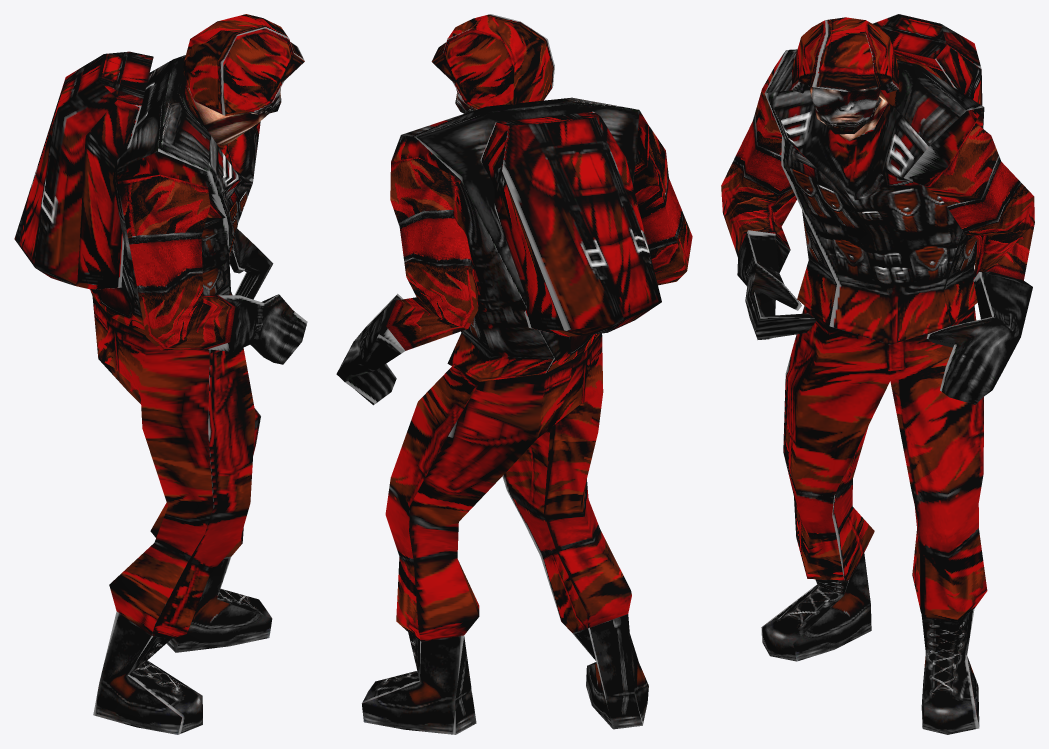
File: soldier.glb
3 views of the same model, side by side, from view 1: azimuth 30°, elevation 25°; view 2: azimuth 150°, elevation 25°; view 3: azimuth 270°, elevation 25° (orthographic).
Parts seen in each view (by area): view 1: soldier; view 2: soldier; view 3: soldier.
Boxes of the visible parts, left/top/right/bottom form: soldier: left=14, top=14, right=307, bottom=734; soldier: left=336, top=14, right=692, bottom=734; soldier: left=721, top=14, right=1034, bottom=734.
Bounding box in the file's own units: 29.66 × 68.32 × 28.95.
Materials: 3 (3 with a texture image).
